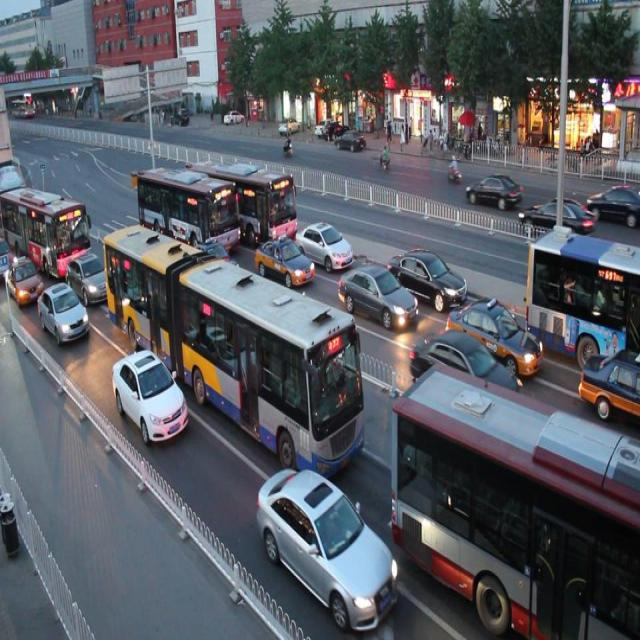car: (254, 463, 398, 631), (410, 329, 521, 428), (446, 294, 544, 382), (111, 349, 188, 447), (337, 258, 416, 331), (390, 243, 468, 309), (576, 346, 640, 424), (253, 230, 314, 289), (36, 278, 90, 342), (294, 214, 352, 273), (186, 237, 242, 295), (65, 251, 115, 307), (0, 250, 42, 307)
van: (102, 218, 366, 482), (391, 366, 640, 640), (524, 225, 640, 360), (136, 160, 240, 262), (191, 153, 298, 248), (1, 182, 90, 272)
